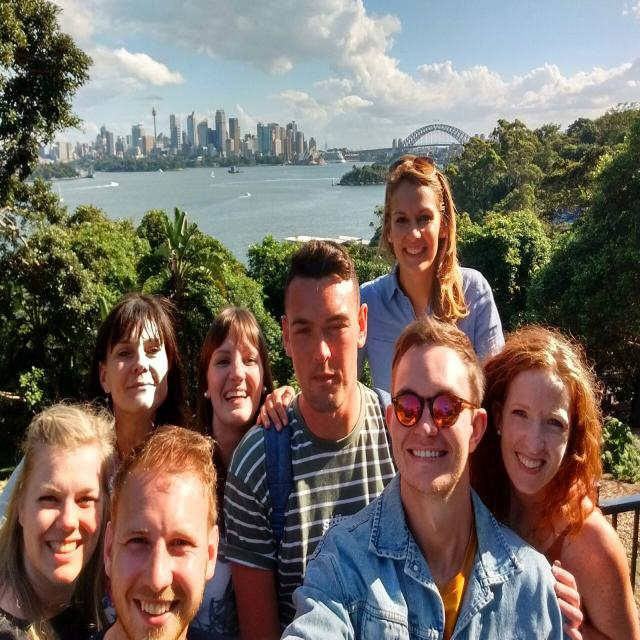body: (274, 318, 570, 640), (222, 235, 406, 640), (255, 153, 508, 436), (468, 321, 640, 640), (0, 396, 121, 640), (88, 426, 225, 640), (183, 305, 269, 638), (88, 290, 196, 468)
